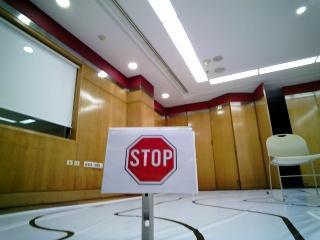stop: (108, 127, 193, 190)
